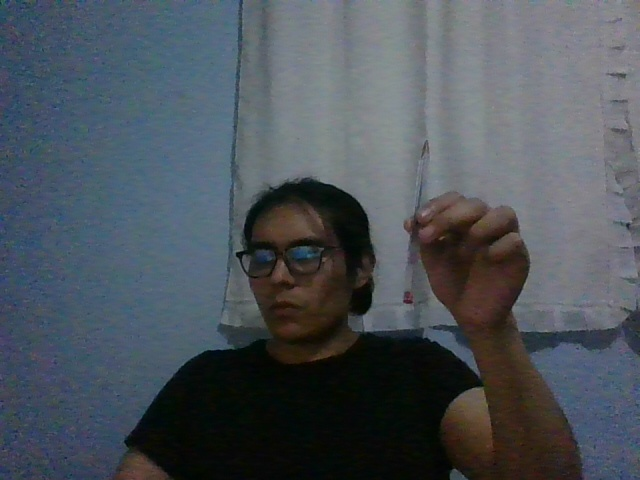pluma: (401, 139, 430, 304)
